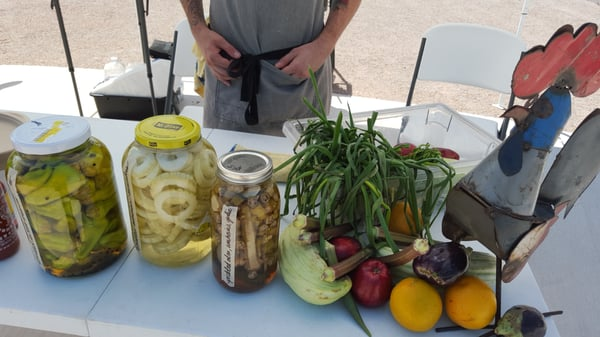taco: (389, 276, 444, 333), (445, 274, 497, 330)
